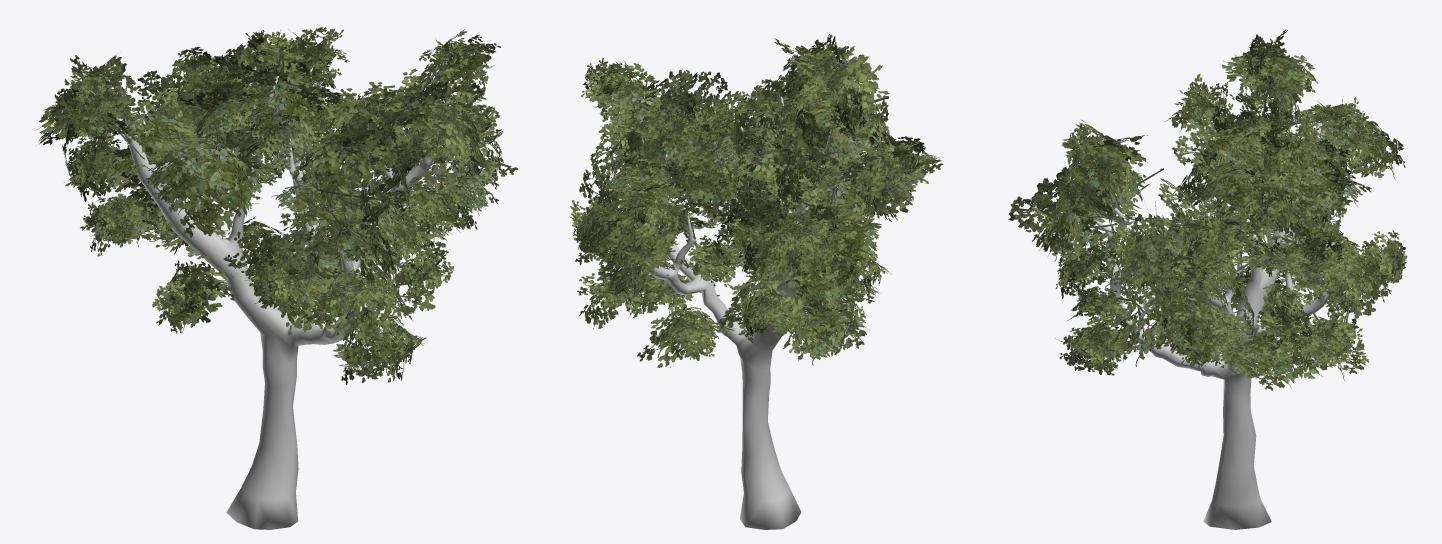
File: PRP_Tree_A_MERGED.fbx
3 renders of one model, left to right at view 1: azimuth 30°, elevation 25°; view 2: azimuth 150°, elevation 25°; view 3: azimuth 270°, elevation 25°, orthographic. The views are drawn at different scales.
Visible parts, largest first — view 1: treea_merged; view 2: treea_merged; view 3: treea_merged.
Part boxes in pixels (left/top/right/bottom): treea_merged: left=35, top=27, right=518, bottom=529; treea_merged: left=569, top=34, right=943, bottom=529; treea_merged: left=1008, top=29, right=1407, bottom=529.
Bounding box in the file's own units: 393 × 423 × 386.
